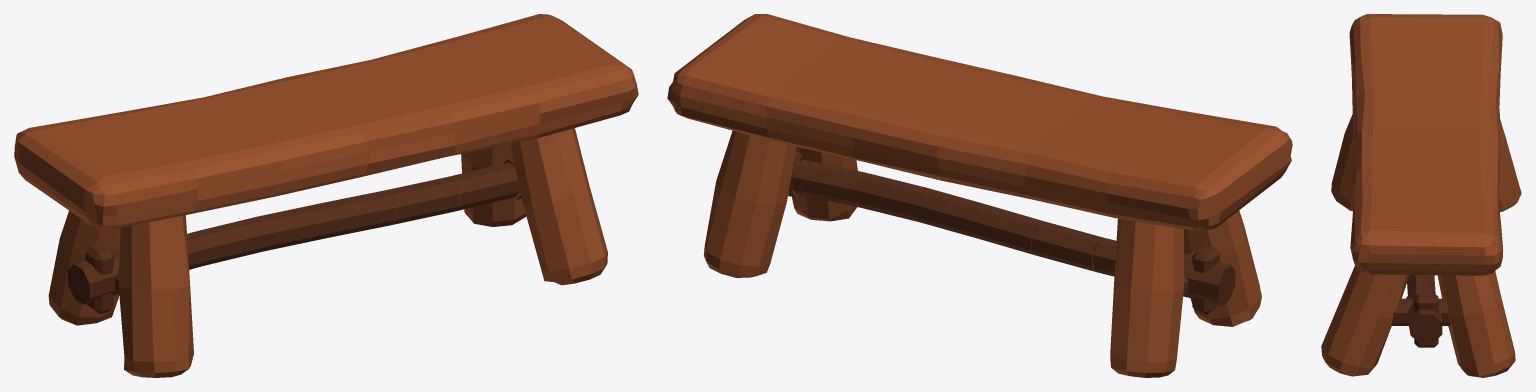
3 views of the same model, side by side, from view 1: azimuth 30°, elevation 25°; view 2: azimuth 150°, elevation 25°; view 3: azimuth 270°, elevation 25° (orthographic). The views are drawn at different scales.
Visible parts, largest first — view 1: seat, legs, frame; view 2: seat, legs, frame; view 3: seat, legs, frame.
Part boxes in pixels (x1,y1,x2,y2): seat: (14,14,638,229); legs: (48,128,607,377); frame: (67,156,521,314); seat: (667,14,1292,230); legs: (703,130,1261,377); frame: (788,151,1235,314); seat: (1349,14,1503,275); legs: (1321,114,1521,377); frame: (1391,275,1450,347).
Size of the model in its own units: 1.61 by 0.5646 by 0.6132.
